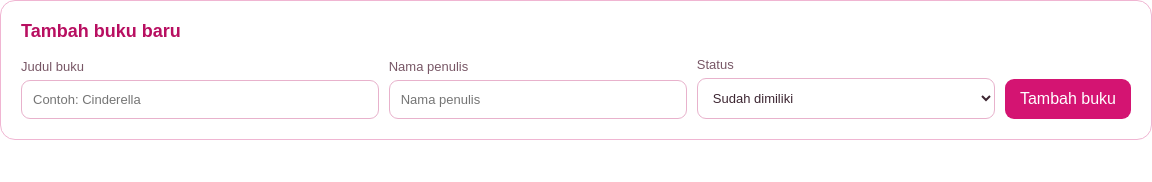
it: BookForm › memberi pesan kalau kolom wajib kosong
The width and height of the screenshot is (1152, 182).
Click the button "Tambah buku" at (1068, 99), box 1005,79 -> 1131,119
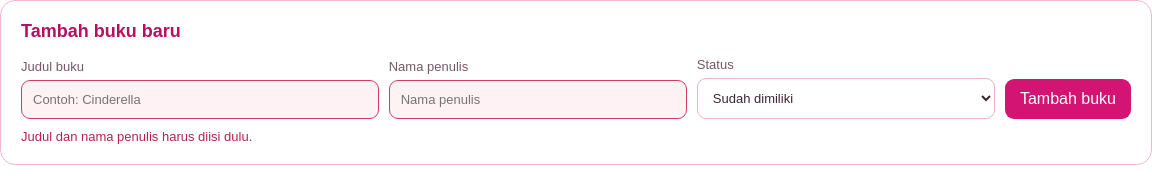
Result: the text "Judul dan nama penulis harus diisi dulu." is shown at 21,129 -> 252,144
